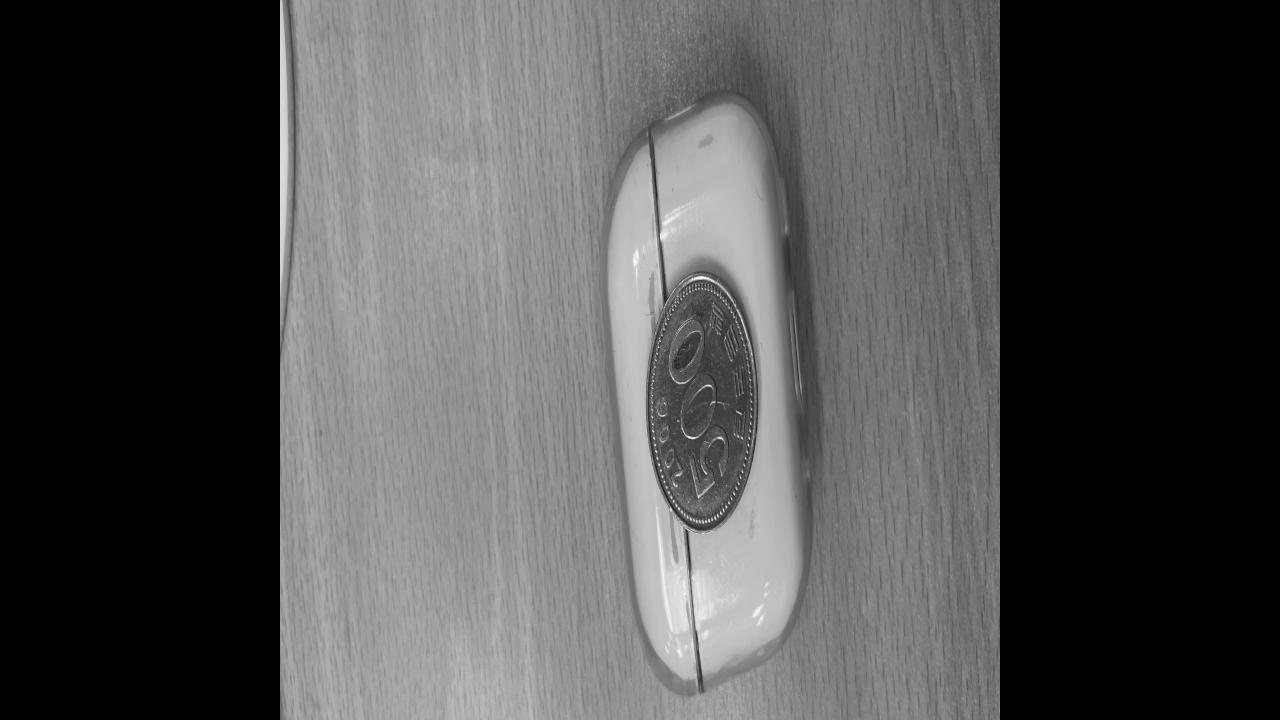coin: (646, 266, 758, 532)
